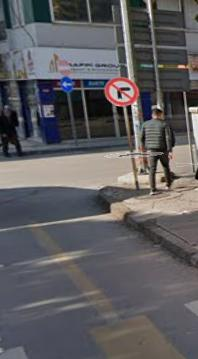rightturnsareforbidden: (103, 74, 141, 112)
